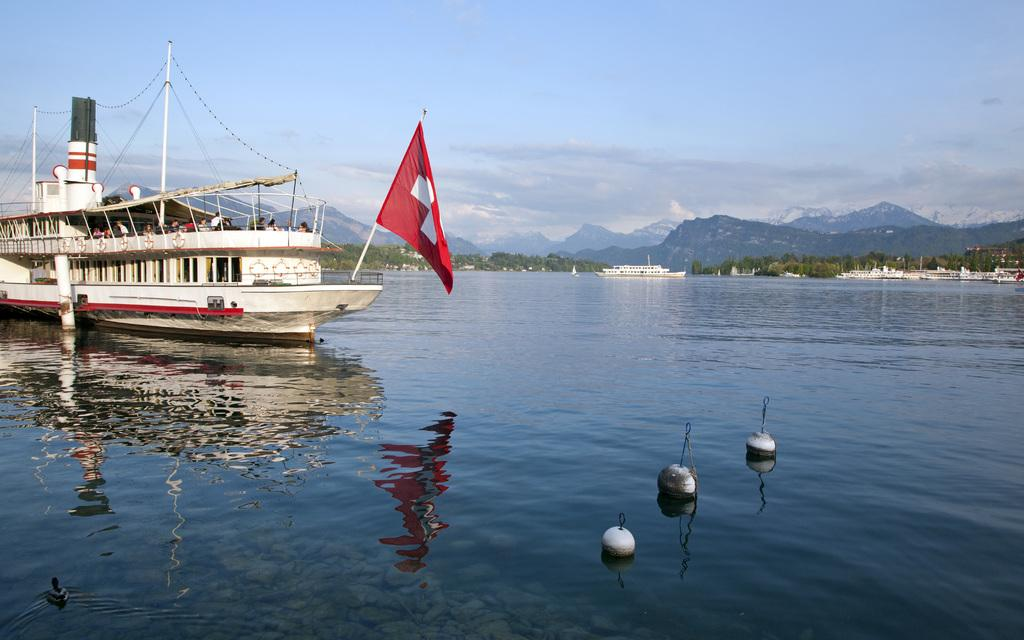PassengerShip: (0, 92, 394, 362), (596, 255, 686, 278), (831, 261, 909, 283), (920, 270, 970, 282)
